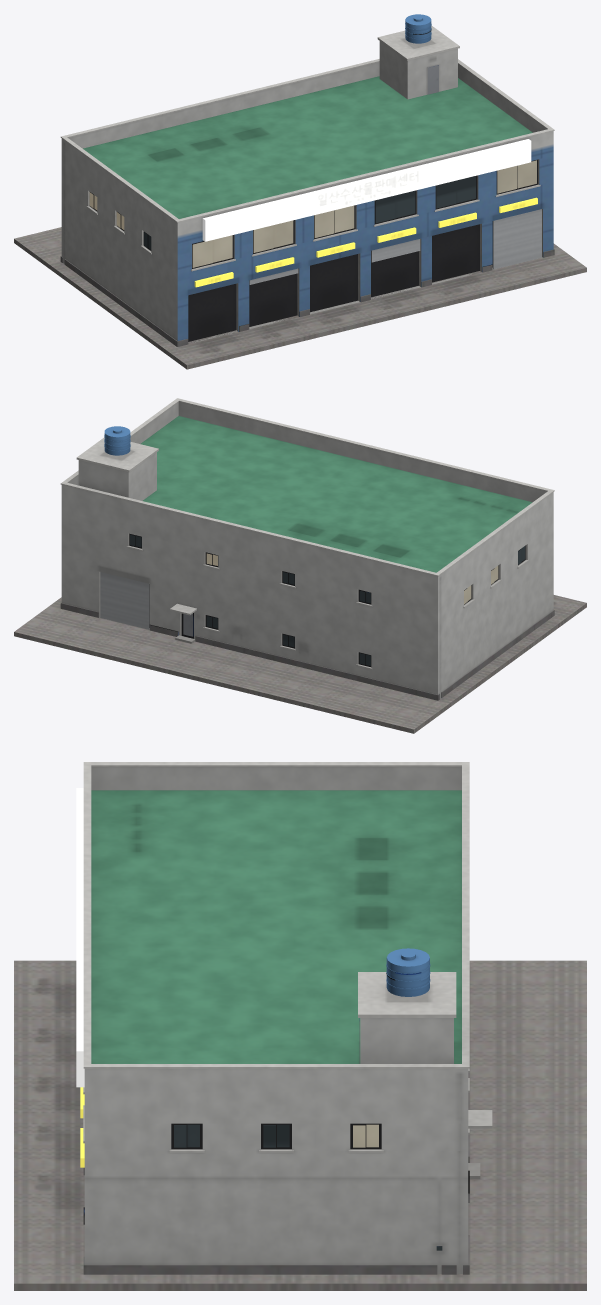
File: IlsanMarket01_LOD2.fbx
3 renders of one model, top to bottom at view 1: azimuth 30°, elevation 25°; view 2: azimuth 150°, elevation 25°; view 3: azimuth 270°, elevation 25°, orthographic. The views are drawn at different scales.
Parts seen in each view (by area): view 1: IlsanMarket01_LOD2; view 2: IlsanMarket01_LOD2; view 3: IlsanMarket01_LOD2.
Part boxes in pixels (bbox=[...]): IlsanMarket01_LOD2: bbox=[14, 14, 586, 369]; IlsanMarket01_LOD2: bbox=[14, 398, 586, 733]; IlsanMarket01_LOD2: bbox=[14, 762, 586, 1290].
Size of the model in its own units: 31.9 by 13.65 by 23.9.
1 material, 1 textured.
